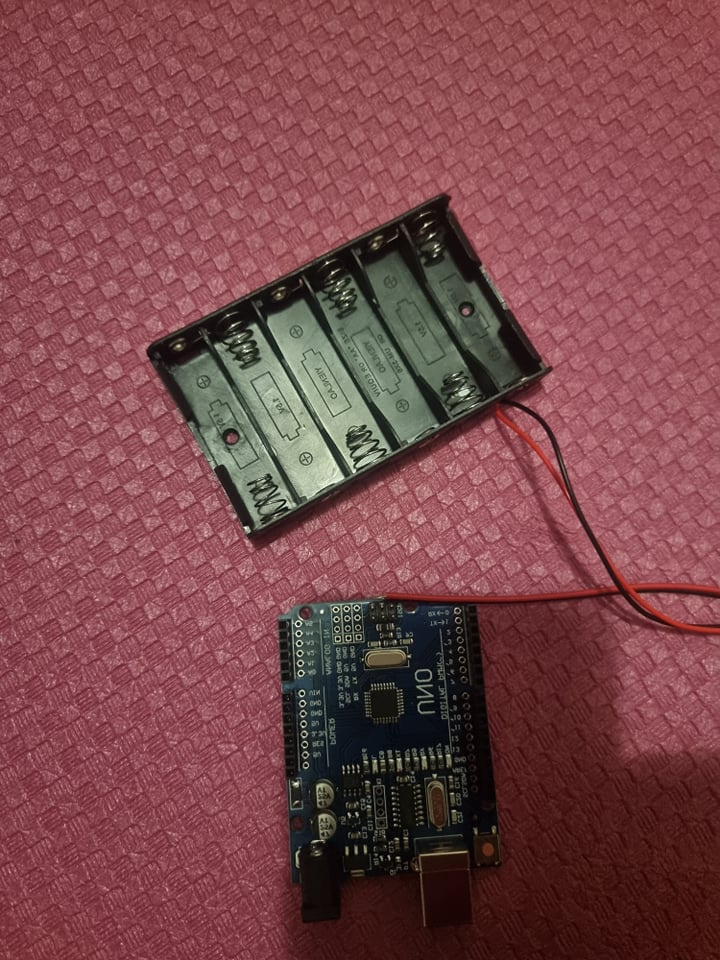BATTERY BOX: (146, 190, 549, 542)
UNO R3: (277, 596, 501, 942)
